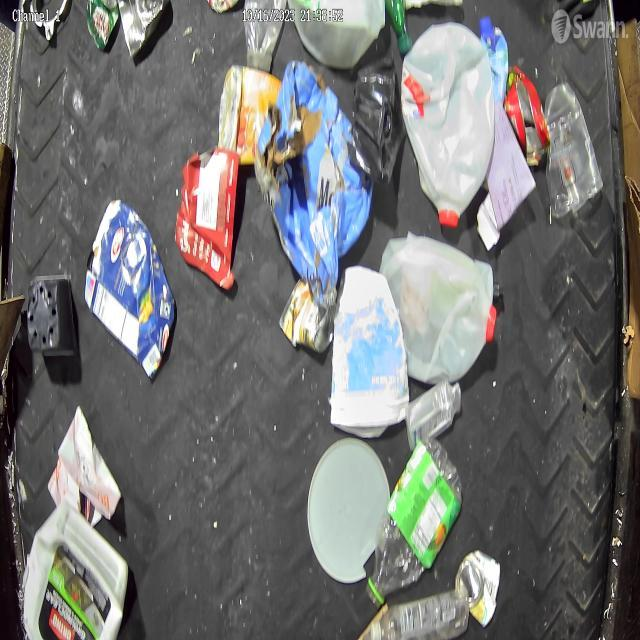can: (504, 64, 552, 166), (278, 278, 336, 354), (454, 548, 502, 628), (118, 0, 170, 59), (85, 0, 119, 52)
milk_jug: (401, 22, 496, 228), (378, 230, 498, 385), (288, 0, 386, 70)
non_white_jug: (24, 498, 131, 640)
plastic_bottle: (365, 434, 463, 608)
